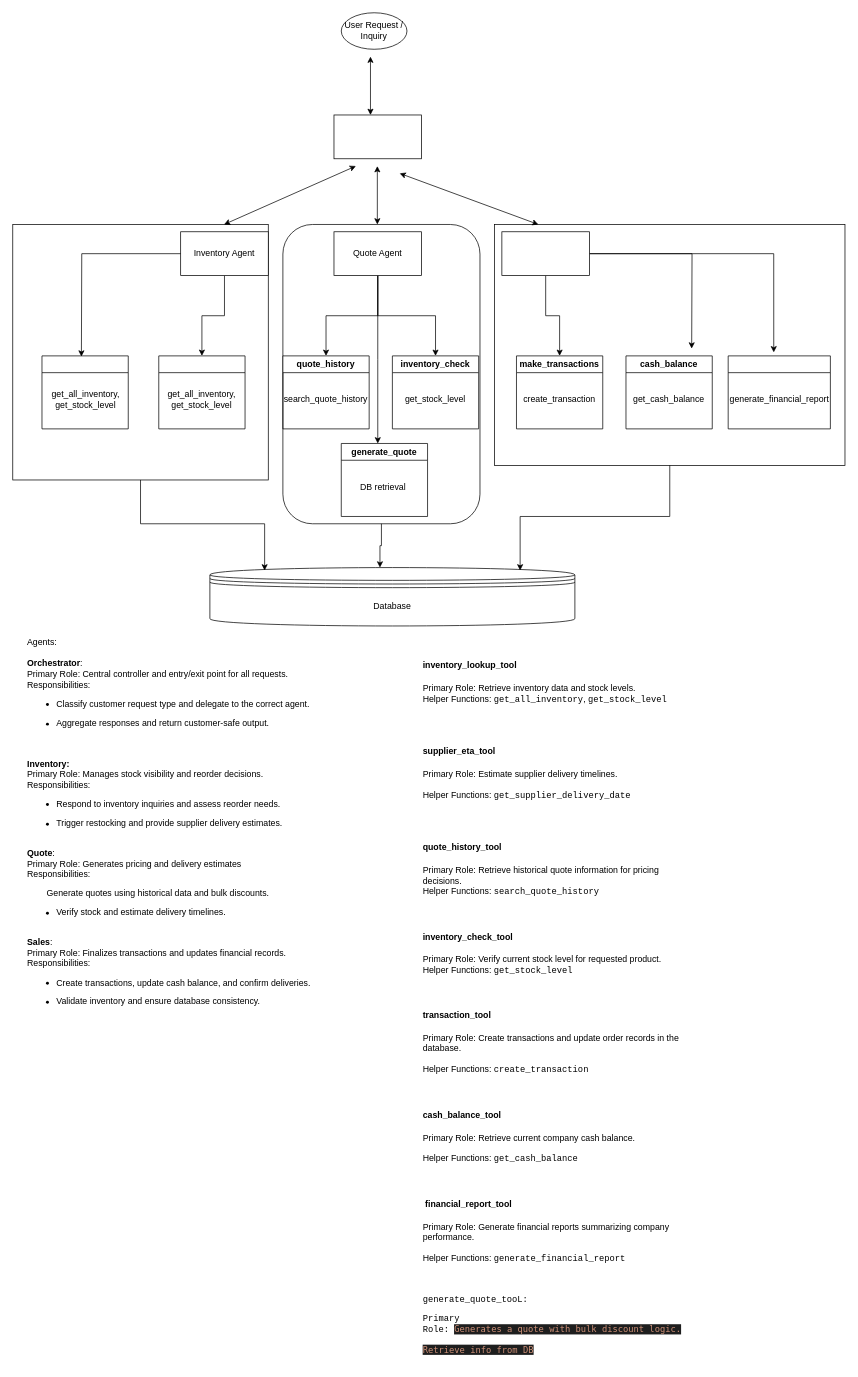
Some shapes in this 858 by 1377 pixel diagram are drawn without their labels. Each missing label, with the box of its shape:
finance_report: (727, 355, 830, 429)
inventory_lookup: (41, 355, 128, 429)
Orchestrator Agent: (333, 114, 422, 159)
Sales Agent: (501, 231, 589, 276)
supplier_eta: (158, 355, 245, 429)
